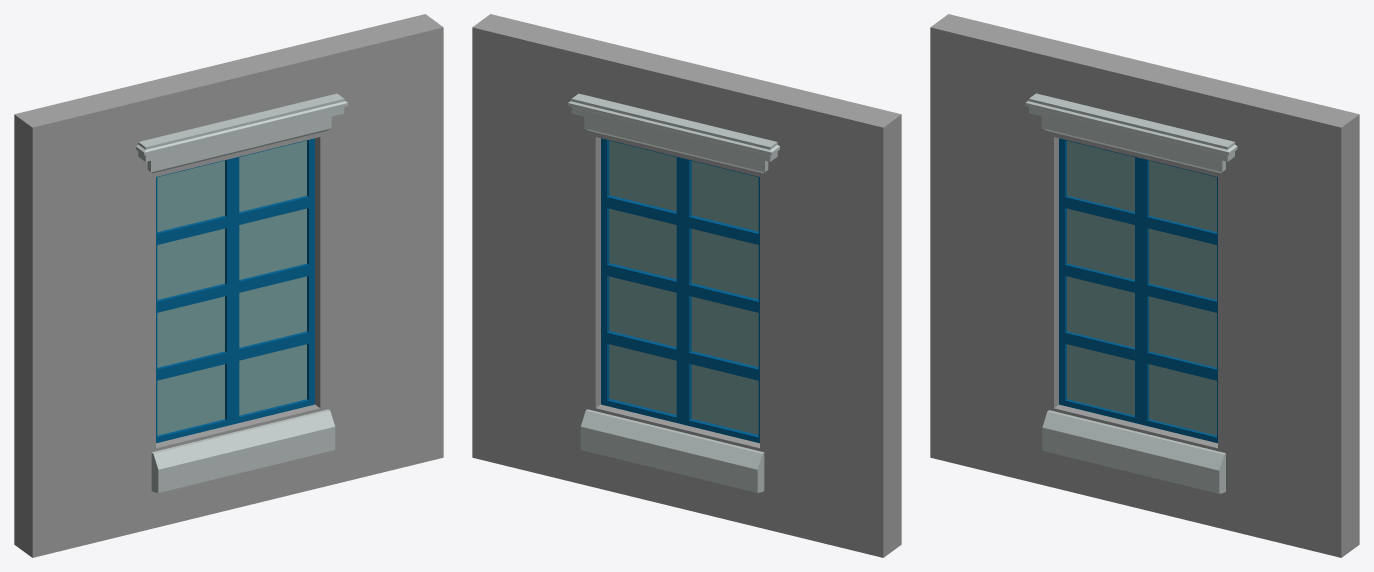
File: NY_Street_Window_08.fbx
The picture shows the model from 3 angles, left to right: view 1: azimuth 30°, elevation 25°; view 2: azimuth 150°, elevation 25°; view 3: azimuth 330°, elevation 25°; orthographic projection.
Parts seen in each view (by area): view 1: NY_Street_Window_08; view 2: NY_Street_Window_08; view 3: NY_Street_Window_08.
Part boxes in pixels (left/top/right/bottom): NY_Street_Window_08: left=14, top=14, right=443, bottom=557; NY_Street_Window_08: left=472, top=14, right=901, bottom=557; NY_Street_Window_08: left=930, top=14, right=1359, bottom=557.
Bounding box in the file's own units: 400 × 400 × 59.09.
